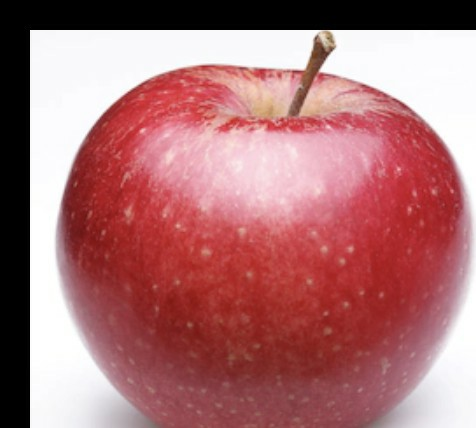fresh_apple: (54, 66, 476, 428)
